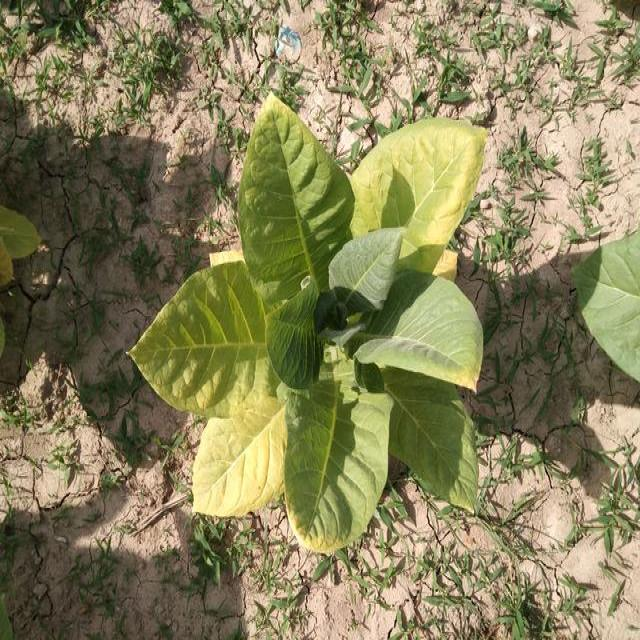crop: (120, 100, 510, 553)
